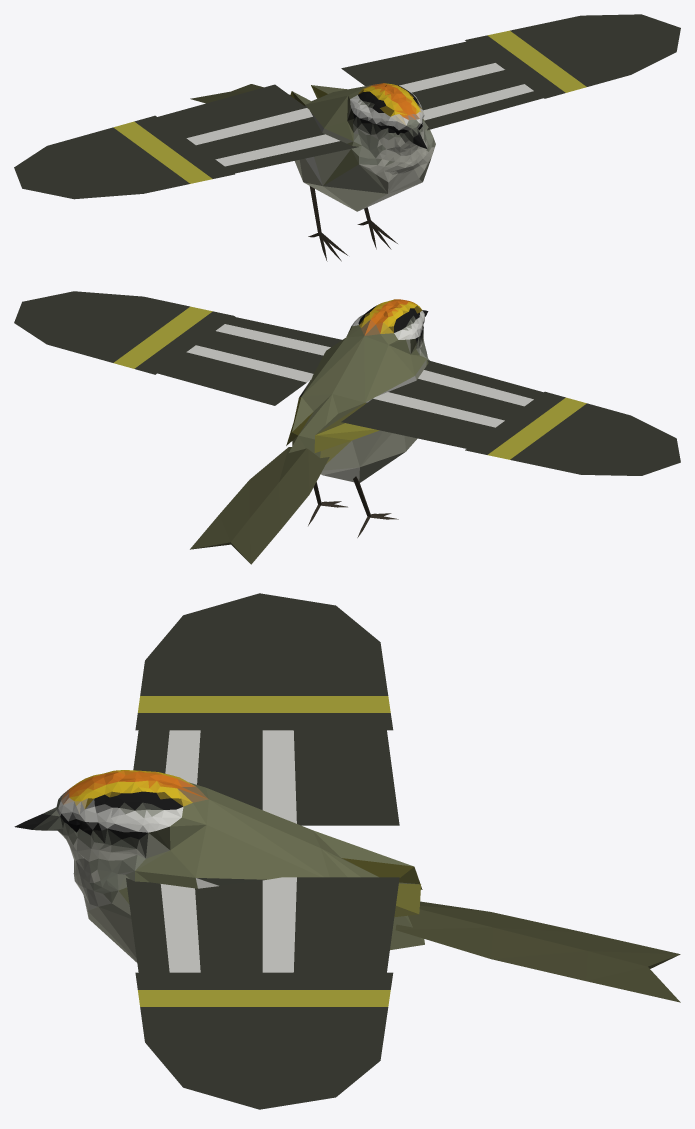
Rendered from kinglet.glb.
3 views of the same model, one above another, from view 1: azimuth 30°, elevation 25°; view 2: azimuth 150°, elevation 25°; view 3: azimuth 270°, elevation 25° (orthographic). The views are drawn at different scales.
Visible parts, largest first — view 1: lod0; view 2: lod0; view 3: lod0.
Boxes of the visible parts, bbox=[...] form: lod0: bbox=[14, 14, 680, 261]; lod0: bbox=[14, 291, 680, 564]; lod0: bbox=[14, 593, 680, 1109].
Size of what is drawn, in the model's own units: 0.16 by 0.0429 by 0.0873.
